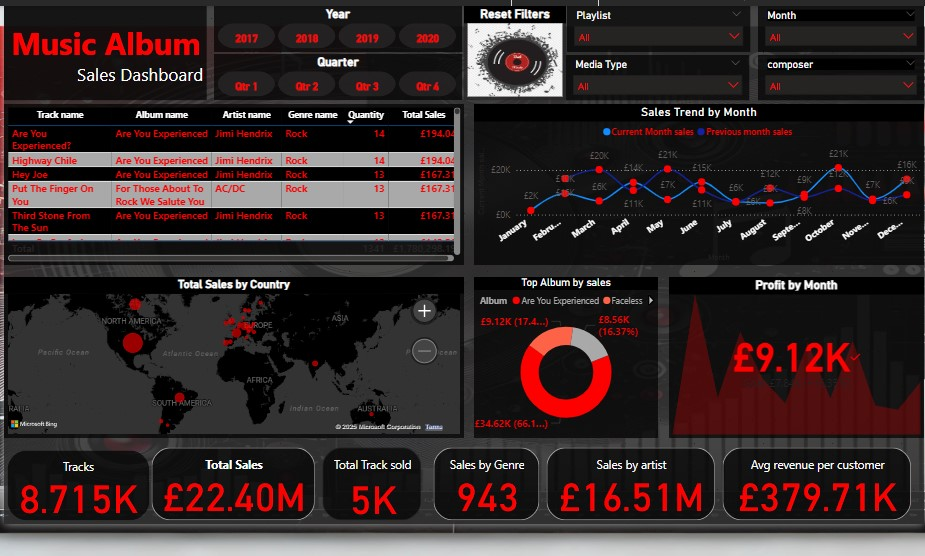

What the dashboard file says about the page in this screenshot:
{"tool":"powerbi","page":{"name":"Music album sales dasboard","canvas":[1280,720],"ordinal":0},"visuals":[{"type":"cardVisual","fields":{"Data":["Measures (2).Sales by Genre"]},"box":[592.7,609.4,157.2,111.3],"z":0},{"type":"map","title":"Total Sales by Country","fields":{"Size":["Measures (2).Total Sales"],"Category":["invoice.billing_country"]},"box":[0,377,640,224],"z":1000},{"type":"tableEx","fields":{"Values":["track.name","album.title","artist.name","genre.name","invoice_line.quantity","Measures (2).Total Sales"]},"box":[0,136.3,640,224],"z":2000},{"type":"cardVisual","fields":{"Data":["Measures (2).Total Sales"]},"box":[200.3,609.4,237.9,111.3],"z":3000},{"type":"cardVisual","fields":{"Data":["Measures (2).Total Track sold"]},"box":[438.3,609.4,147.5,111.3],"z":4000},{"type":"cardVisual","fields":{"Data":["Measures (2).Sales by artist"]},"box":[749.9,609.4,244.9,111.3],"z":5000},{"type":"cardVisual","fields":{"Data":["Measures (2).Avg revenue per customer"]},"box":[994.8,609.4,272.7,111.3],"z":6000},{"type":"donutChart","title":"Top Album by sales","fields":{"Y":["Measures (2).Total Sales"],"Category":["album.title"]},"box":[653.9,377,256,224],"z":7000},{"type":"slicer","fields":{"Values":["media_type.name"]},"box":[781.9,68.2,254.6,62.6],"z":8000},{"type":"slicer","fields":{"Values":["Date.Date.Variation.Date Hierarchy.Month"]},"box":[1049,0,231,64],"z":9000},{"type":"slicer","fields":{"Values":["playlist.name"]},"box":[782.7,0,254.7,64],"z":10000},{"type":"slicer","fields":{"Values":["track.composer"]},"box":[1049,68.2,231,62.6],"z":11000},{"type":"image","title":"Reset Filters","box":[640,0,141.9,130.8],"z":12000},{"type":"lineChart","title":"Sales Trend by Month","fields":{"Category":["Date.Date.Variation.Date Hierarchy.Month"],"Y":["Measures (2).Current Month sales","Measures (2).Previous month sales"]},"box":[653.9,136.3,626.1,224],"z":13000},{"type":"kpi","title":"Profit by Month","fields":{"Indicator":["Measures (2).Current Month sales"],"TrendLine":["Date.Month"],"Goal":["Measures (2).Previous month sales"]},"box":[925.2,377,354.8,224],"z":14000},{"type":"cardVisual","fields":{"Data":["playlist_track.track_id"]},"box":[0,613.6,207.3,107.1],"z":15000},{"type":"advancedSlicerVisual","fields":{"Values":["Date.Date.Variation.Date Hierarchy.Year"]},"box":[292.2,0,345,64],"z":16000},{"type":"advancedSlicerVisual","fields":{"Values":["Date.Date.Variation.Date Hierarchy.Quarter"]},"box":[292.2,66.8,345,64],"z":17000},{"type":"textbox","box":[0,0,282.4,130.8],"z":18000}]}

Visuals, with their boxes in screenshot pixels (x1, y1, x2, y2):
cardVisual - Measures (2).Sales by Genre: l=425, t=451, r=537, b=530
"Total Sales by Country" map: l=2, t=286, r=459, b=445
tableEx - track.name x album.title: l=2, t=114, r=459, b=274
cardVisual - Measures (2).Total Sales: l=145, t=451, r=315, b=530
cardVisual - Measures (2).Total Track sold: l=315, t=451, r=420, b=530
cardVisual - Measures (2).Sales by artist: l=537, t=451, r=711, b=530
cardVisual - Measures (2).Avg revenue per customer: l=711, t=451, r=906, b=530
"Top Album by sales" donutChart: l=468, t=286, r=651, b=445
slicer - media_type.name: l=560, t=65, r=741, b=110
slicer - Date.Date.Variation.Date Hierarchy.Month: l=750, t=17, r=915, b=62
slicer - playlist.name: l=560, t=17, r=742, b=62
slicer - track.composer: l=750, t=65, r=915, b=110
"Reset Filters" image: l=459, t=17, r=560, b=110
"Sales Trend by Month" lineChart: l=468, t=114, r=915, b=274
"Profit by Month" kpi: l=662, t=286, r=915, b=445
cardVisual - playlist_track.track_id: l=2, t=454, r=150, b=530
advancedSlicerVisual - Date.Date.Variation.Date Hierarchy.Year: l=211, t=17, r=457, b=62
advancedSlicerVisual - Date.Date.Variation.Date Hierarchy.Quarter: l=211, t=64, r=457, b=110
textbox: l=2, t=17, r=204, b=110
